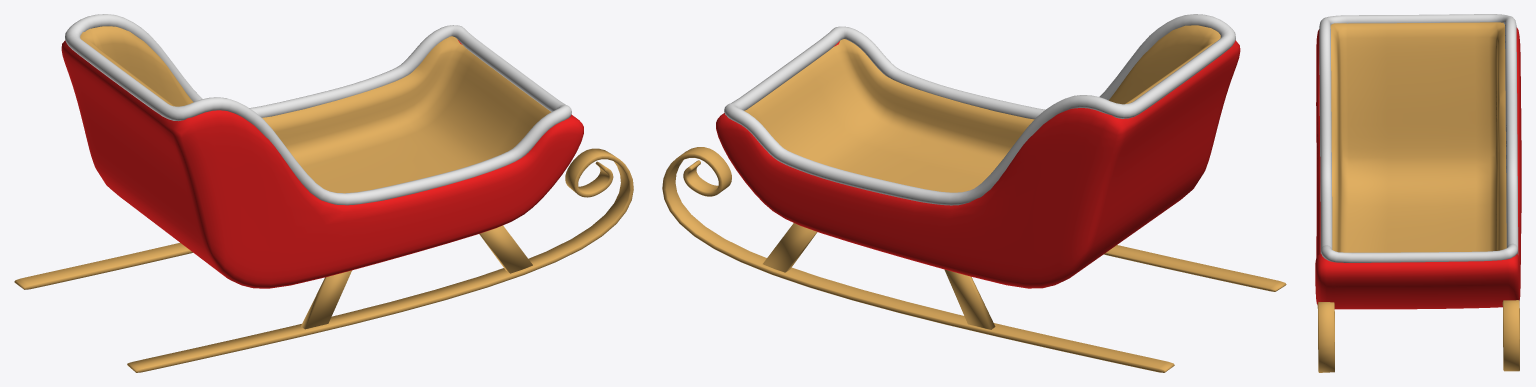
Rendered from sled.glb.
3 views of the same model, side by side, from view 1: azimuth 30°, elevation 25°; view 2: azimuth 150°, elevation 25°; view 3: azimuth 270°, elevation 25° (orthographic). The views are drawn at different scales.
Parts seen in each view (by area): view 1: Cube.018; view 2: Cube.018; view 3: Cube.018.
Boxes of the visible parts, x1,y1,x2,y2 form: Cube.018: (14,14,633,372); Cube.018: (662,14,1286,372); Cube.018: (1315,14,1521,372).
Bounding box in the file's own units: 1.73 × 0.8561 × 0.7449.
